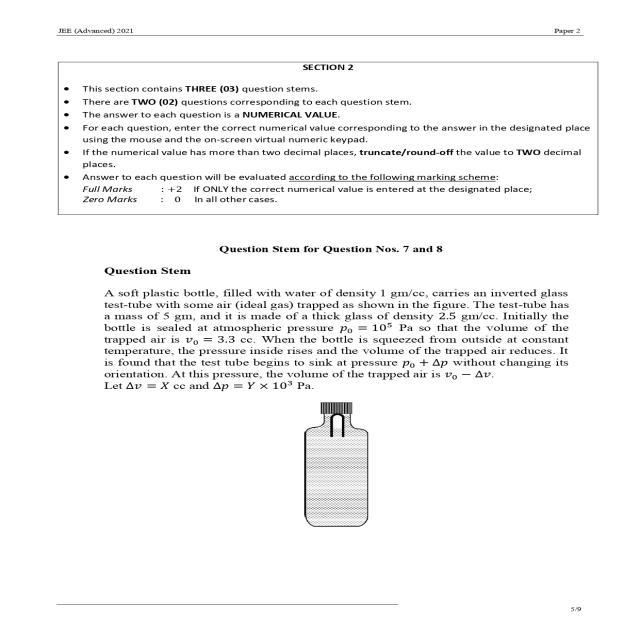Instruction: (36, 42, 608, 224)
Question_Answer_Block: (36, 234, 608, 544)
Question_Block: (36, 234, 608, 544)
Question_Paper_Area: (36, 42, 608, 570)
